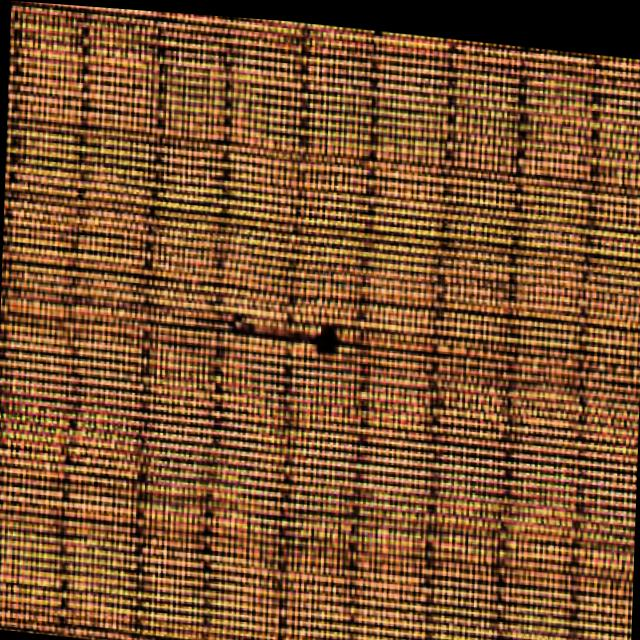Stitch: (196, 267, 364, 393)
